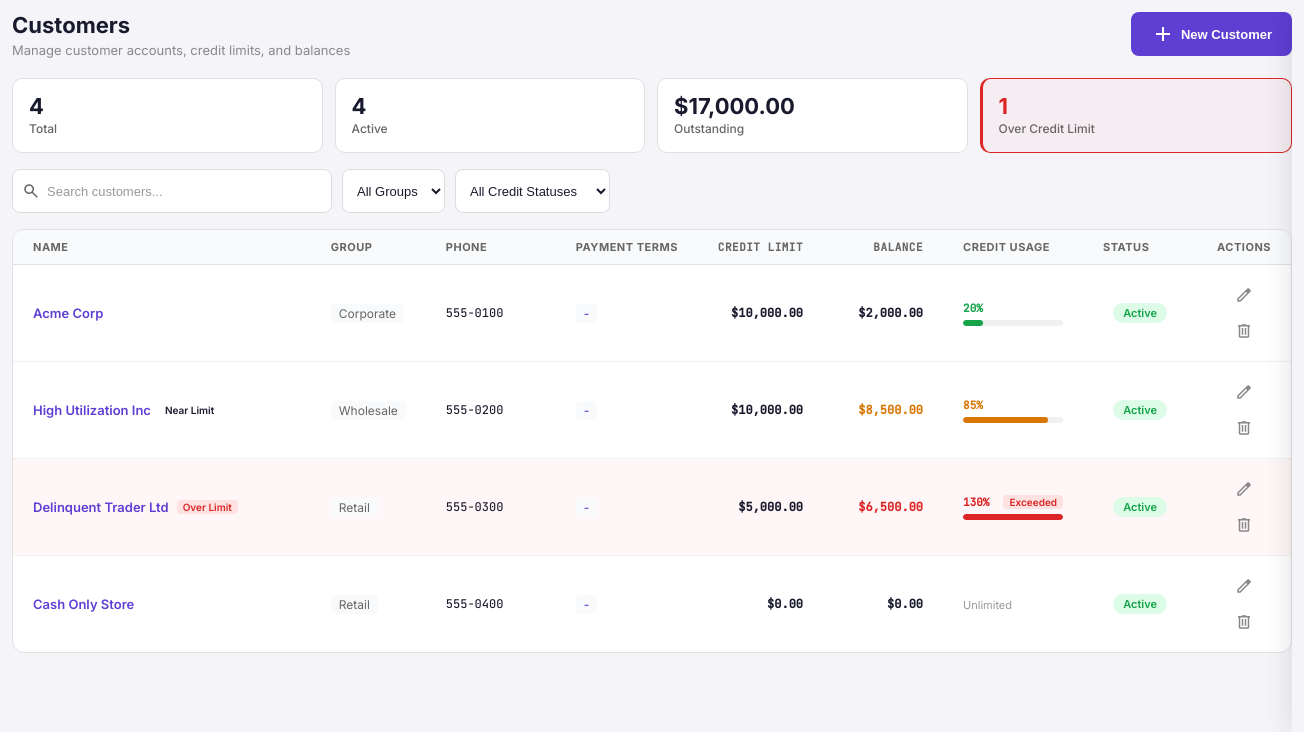
CustomersView & CustomerDetailView (Credit Limits & Delinquent Indicators) › CustomersView › filters customers by credit status dropdown
# Select 'over-limit'
Select "Over Credit Limit" in the 2nd dropdown at [532, 191], box [455, 169, 610, 213]
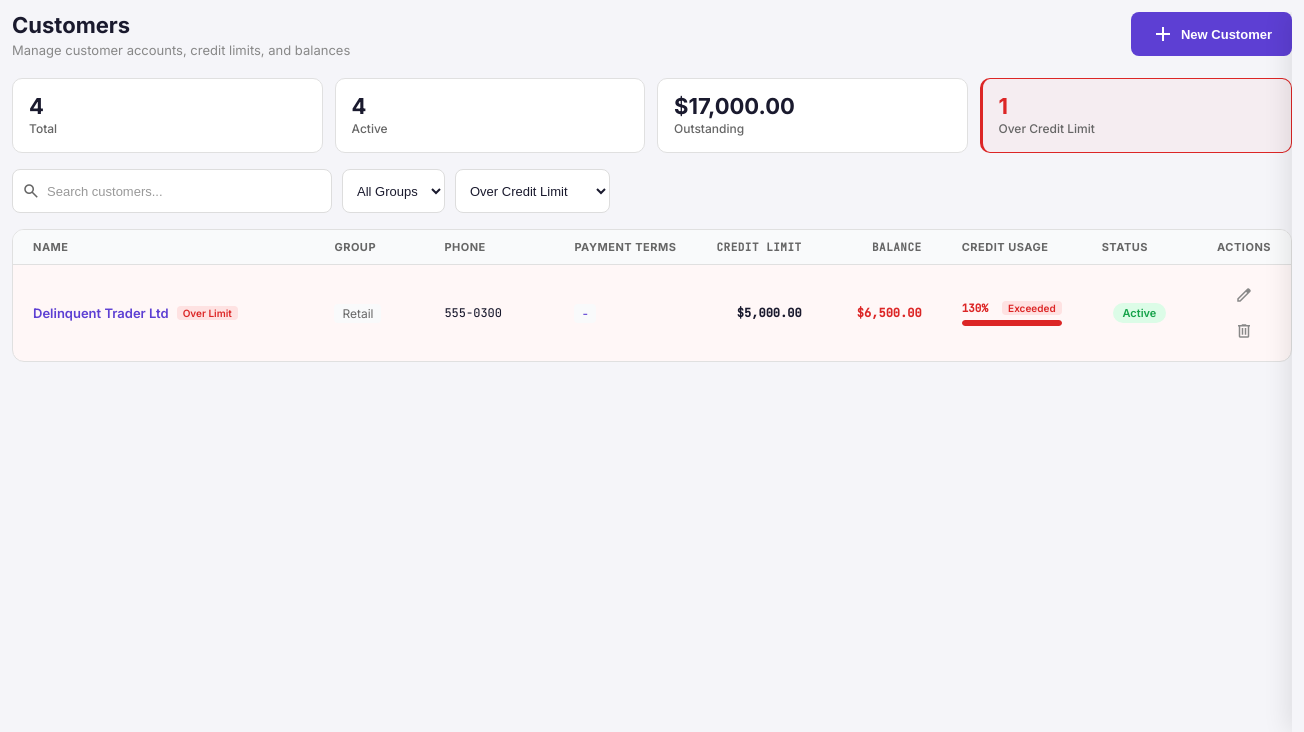
Result: the text "Acme Corp" is gone
Result: the text "High Utilization Inc" is gone
Result: the text "Cash Only Store" is gone
# Select 'near-limit'
Select "Near Limit (≥80%)" in the 2nd dropdown at [532, 191], box [455, 169, 610, 213]
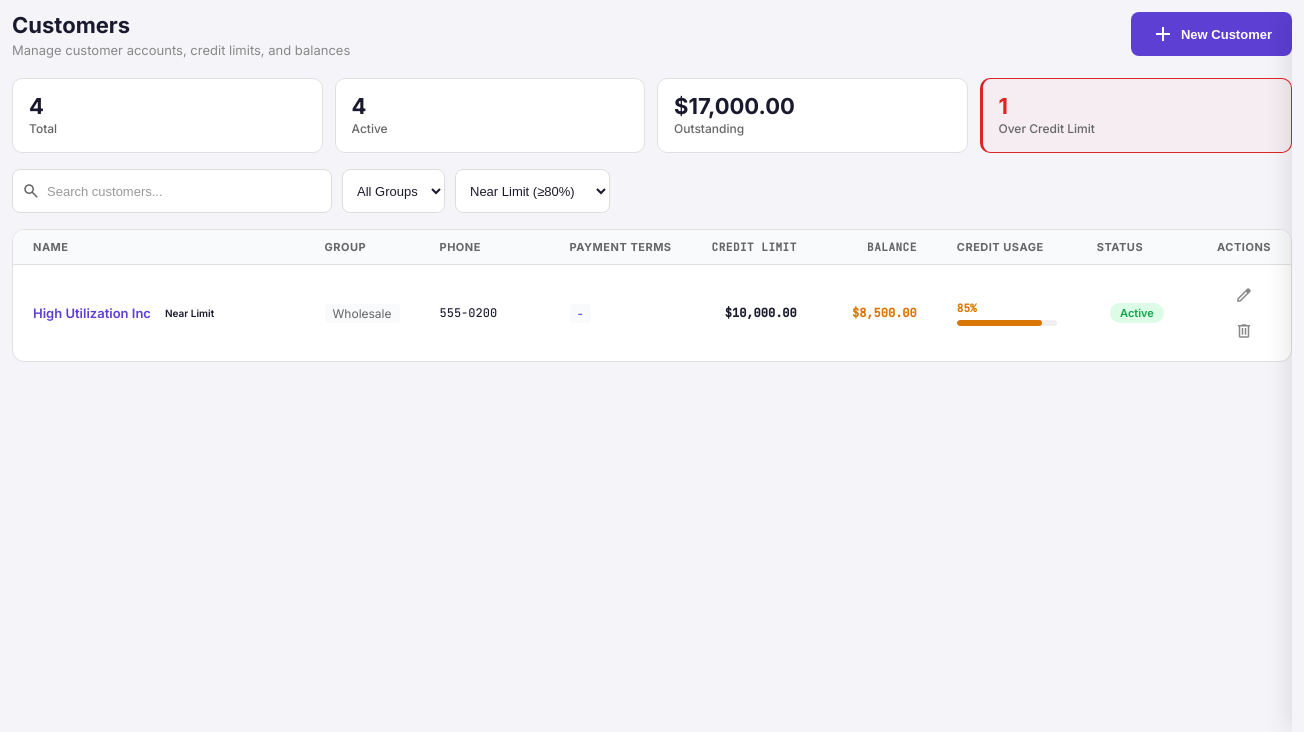
Expected: the text "Acme Corp" is not shown
Result: the text "High Utilization Inc" is shown at [33, 305, 151, 321]
Result: the text "Delinquent Trader Ltd" is gone
# Select 'unlimited'
Select "No Limit / Unlimited" in the 2nd dropdown at [532, 191], box [455, 169, 610, 213]
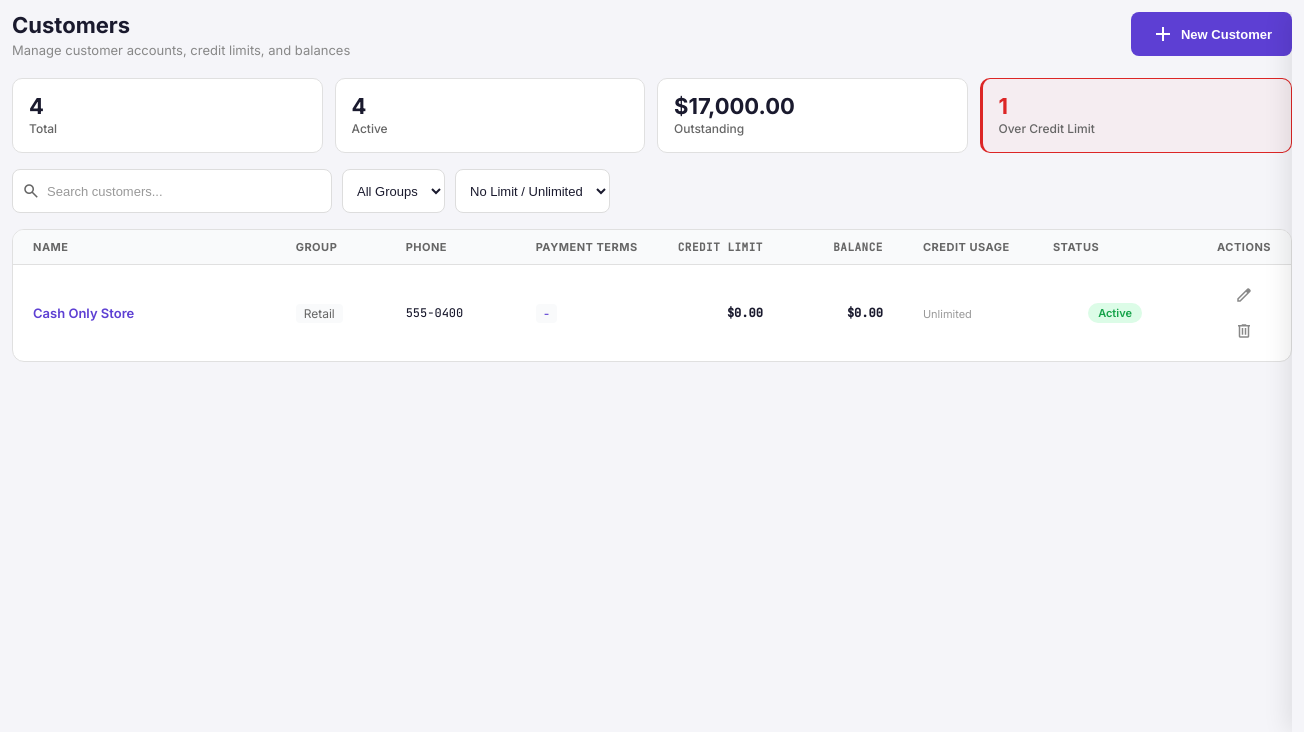
Expected: the text "Acme Corp" is not shown
Result: the text "Cash Only Store" is shown at [33, 305, 134, 321]
